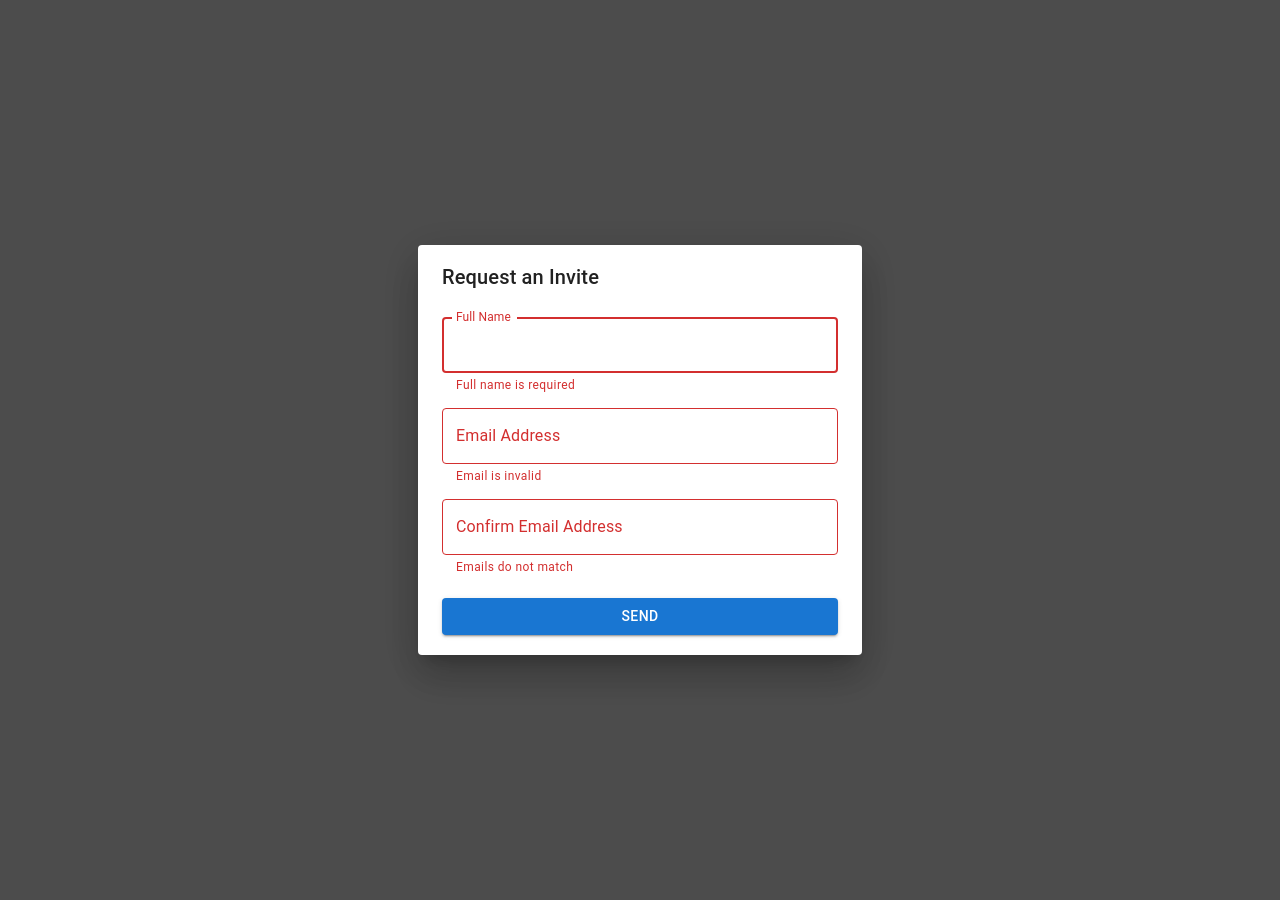
Test: FormDialog submission › handles form submission with an error response
The image size is (1280, 900).
In the field labelled "Full Name": (640, 345) x1=442 y1=317 x2=838 y2=373, type "John Doe"
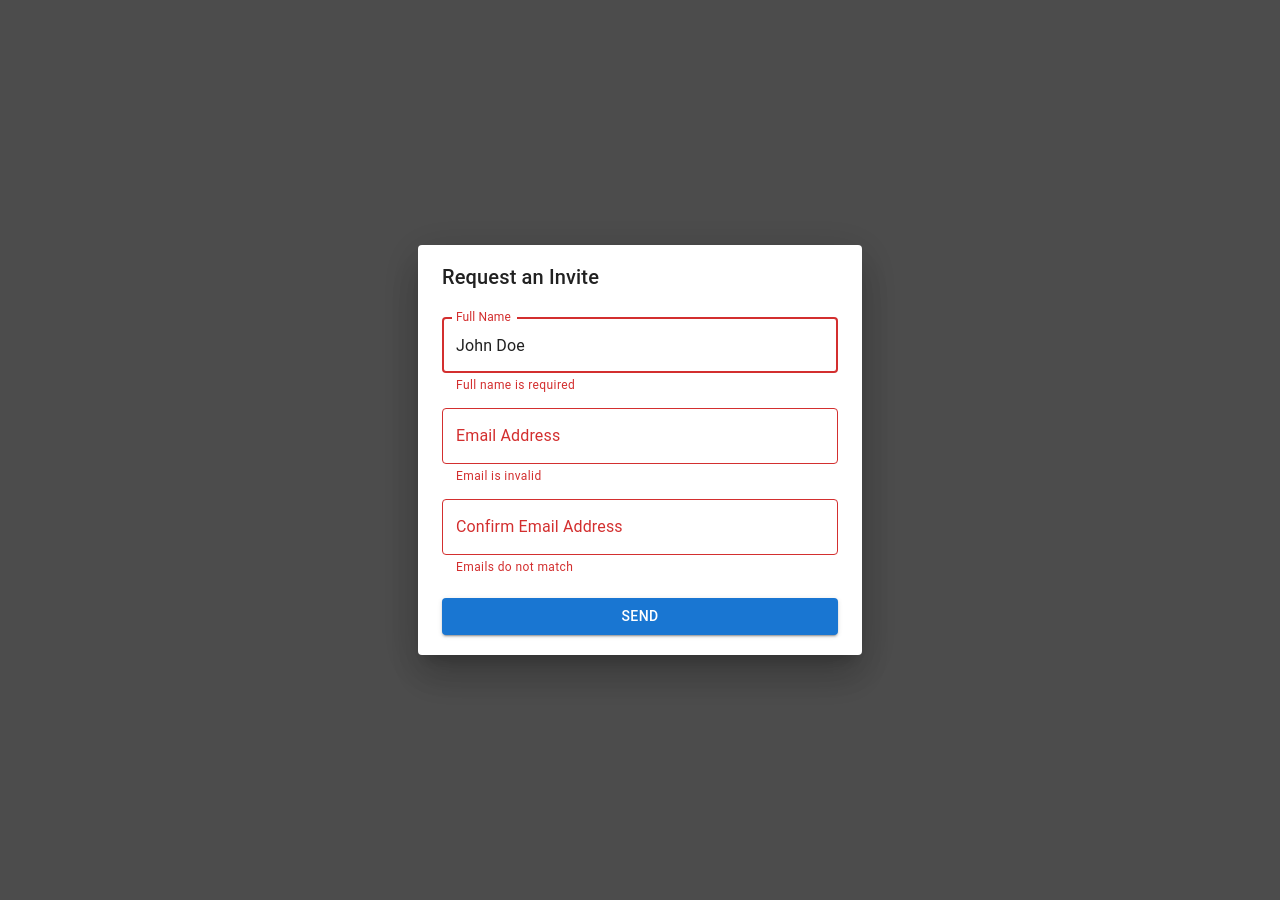
In the field labelled "Email Address": (640, 436) x1=442 y1=408 x2=838 y2=464, type "john@example.com"
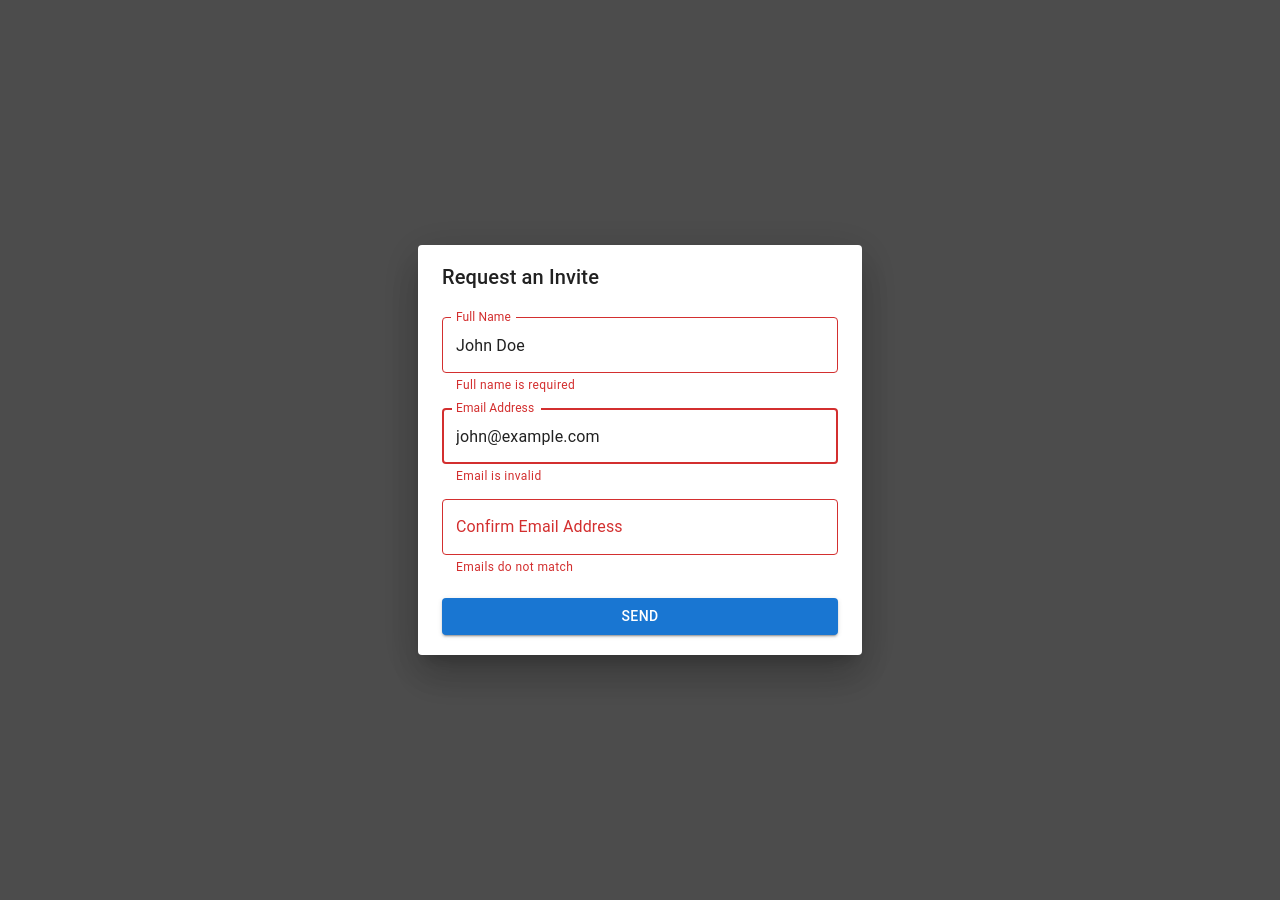
In the field labelled "Confirm Email Address": (640, 527) x1=442 y1=499 x2=838 y2=555, type "john@example.com"
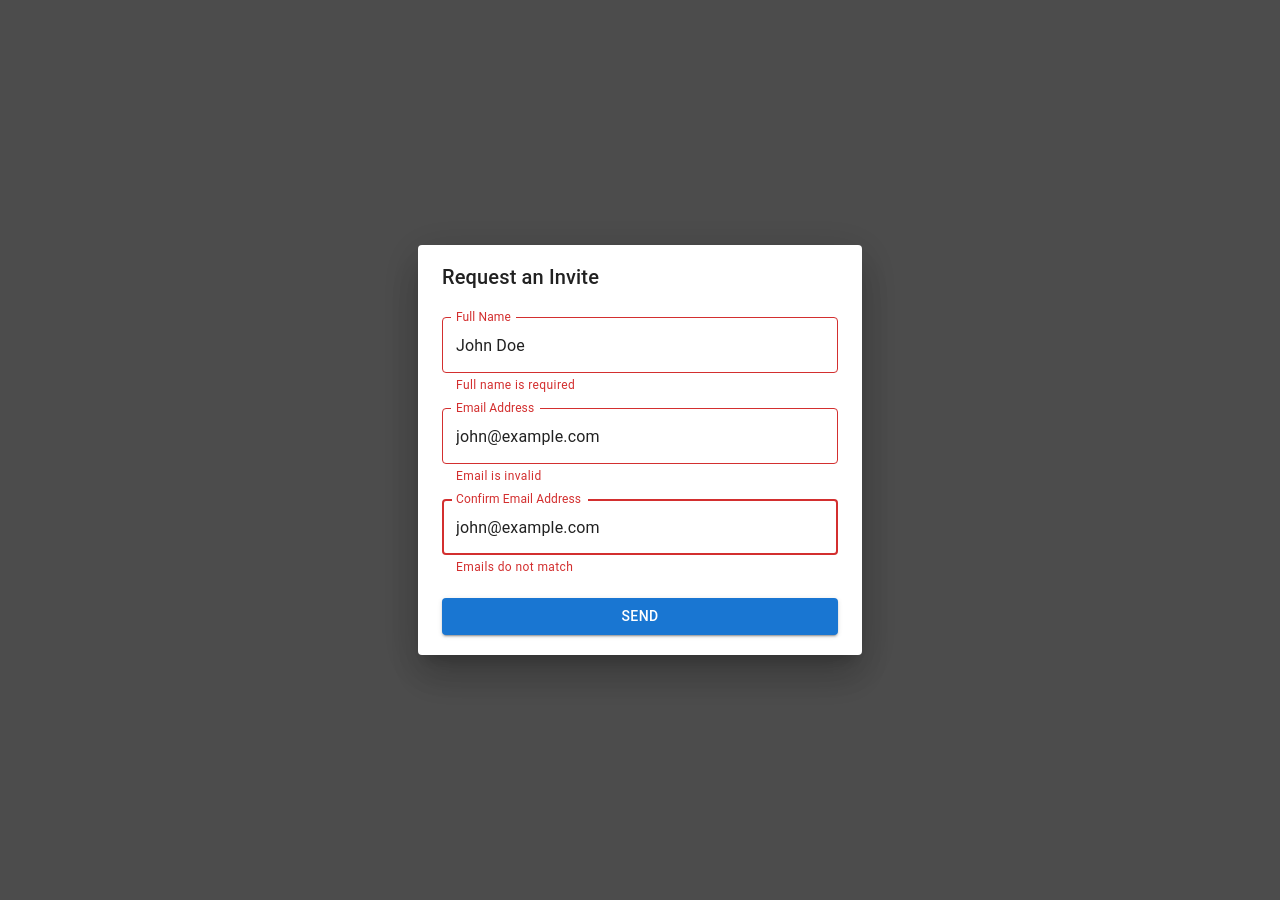
Click the button "Send": click(640, 616) x1=442 y1=598 x2=838 y2=635
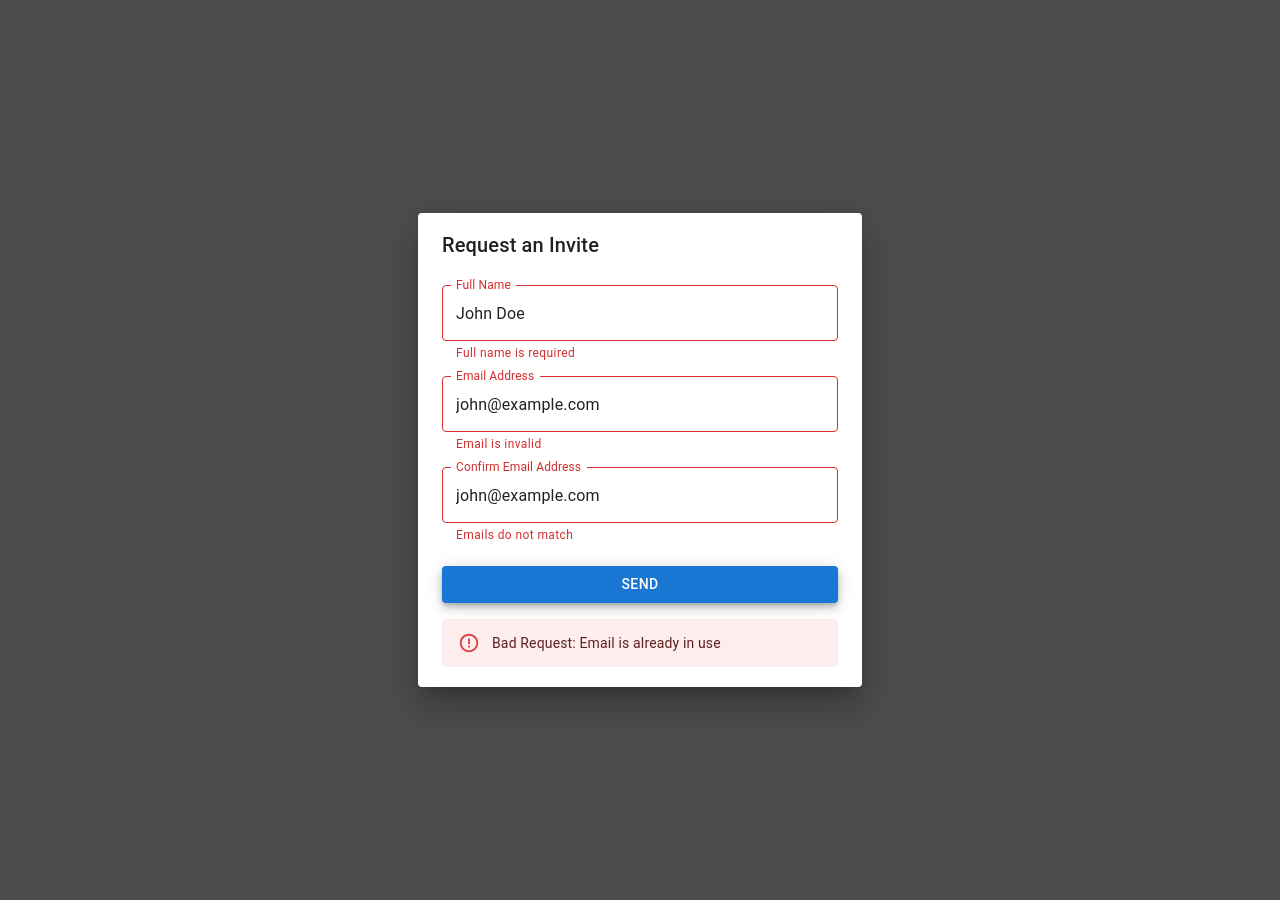
Expected: the text "Bad Request: Email is already in use" is shown, x1=492 y1=635 x2=721 y2=651
